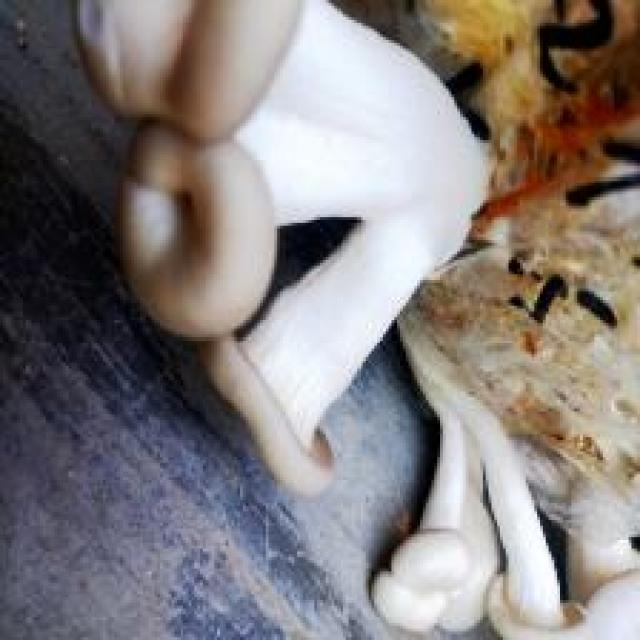field-mushroom: (69, 0, 494, 497)
